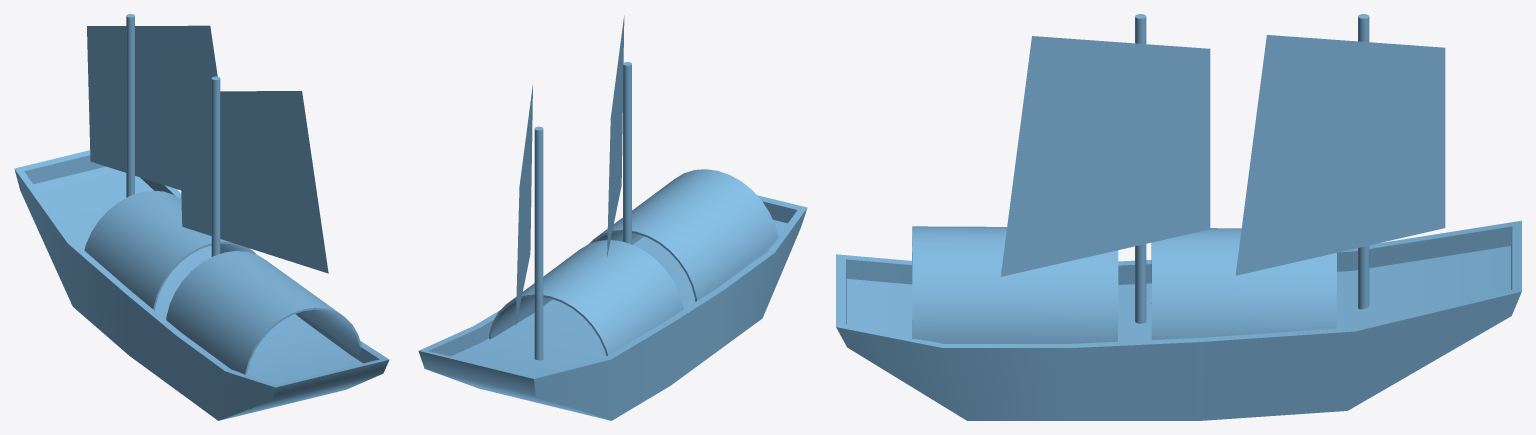
The model's file is ceshichuan.glb.
3 views of the same model, side by side, from view 1: azimuth 30°, elevation 25°; view 2: azimuth 150°, elevation 25°; view 3: azimuth 270°, elevation 25° (orthographic). The views are drawn at different scales.
Visible parts, largest first — view 1: 立方体_2; view 2: 立方体_2; view 3: 立方体_2.
Boxes of the visible parts, left/top/right/bottom form: 立方体_2: left=14, top=14, right=389, bottom=420; 立方体_2: left=418, top=15, right=807, bottom=420; 立方体_2: left=836, top=14, right=1521, bottom=420.
Size of the model in its own units: 200 by 411 by 686.
